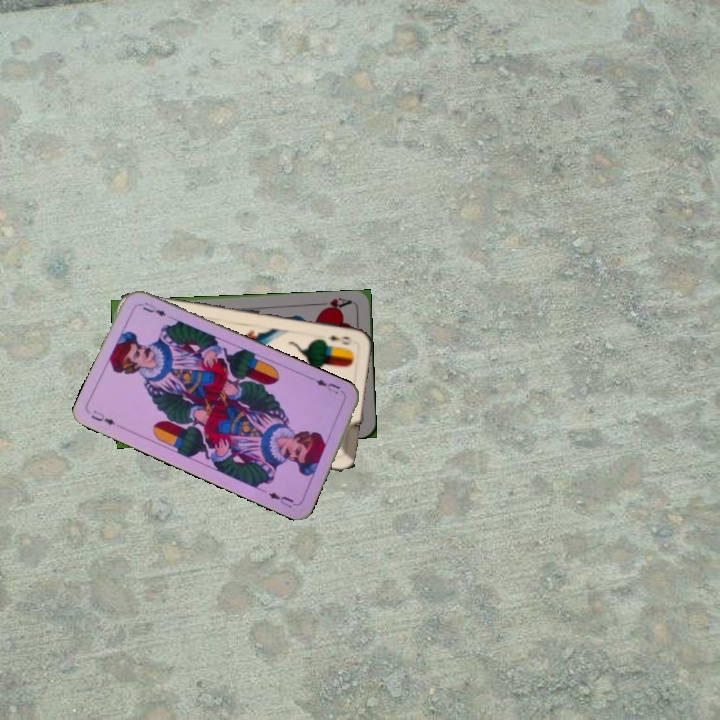EO: (324, 331, 355, 347)
EU: (309, 374, 347, 397), (87, 406, 117, 428)
HA: (314, 294, 354, 314)
